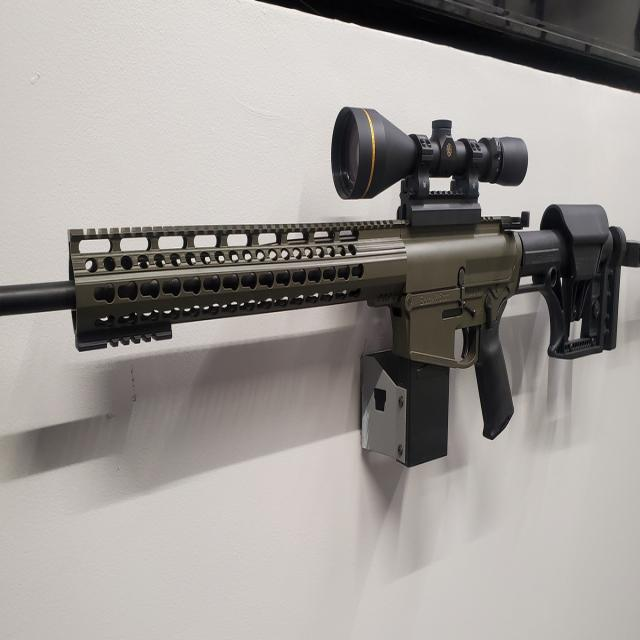Rifle: (0, 108, 617, 468)
